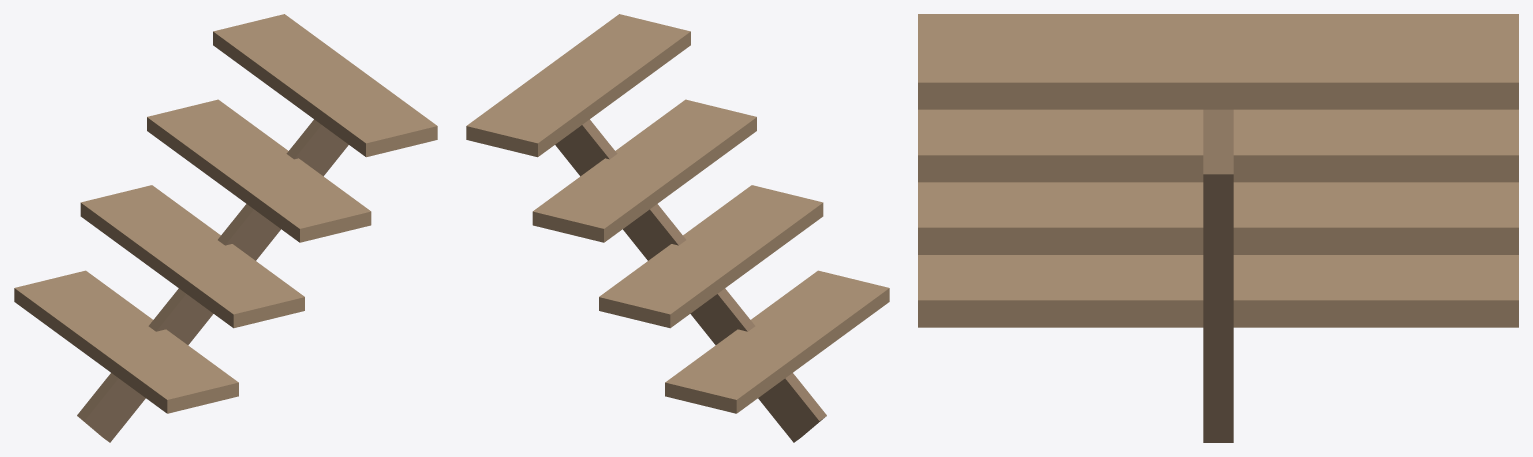
File: stair-wood-broad.glb
The picture shows the model from 3 angles, left to right: view 1: azimuth 30°, elevation 25°; view 2: azimuth 150°, elevation 25°; view 3: azimuth 270°, elevation 25°; orthographic projection. The views are drawn at different scales.
Parts seen in each view (by area): view 1: stair-wood-broad; view 2: stair-wood-broad; view 3: stair-wood-broad.
Part boxes in pixels (x1,y1,x2,y2): stair-wood-broad: (14,14,437,442); stair-wood-broad: (466,14,889,442); stair-wood-broad: (918,14,1518,442).
Size of the model in its own units: 1.1 by 1.11 by 1.
